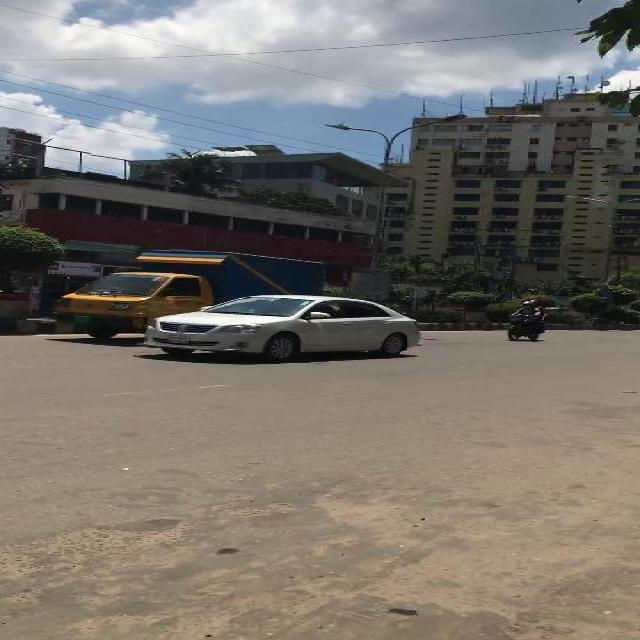bike: (505, 298, 549, 342)
vehicle: (48, 247, 324, 339), (135, 295, 425, 360)
